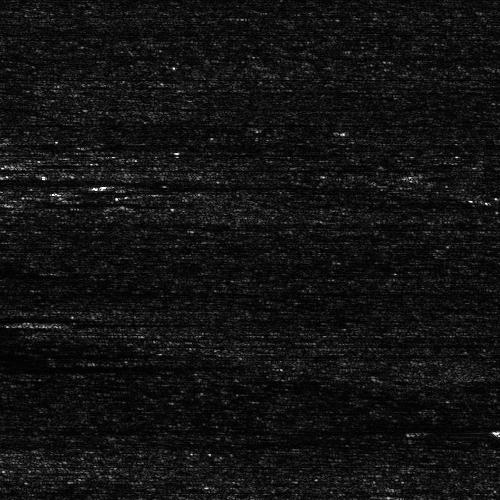rock: (0, 316, 69, 327), (0, 360, 10, 369)
shadow: (0, 174, 255, 187), (33, 316, 279, 327), (0, 360, 77, 369), (0, 312, 40, 319), (0, 196, 27, 205)
